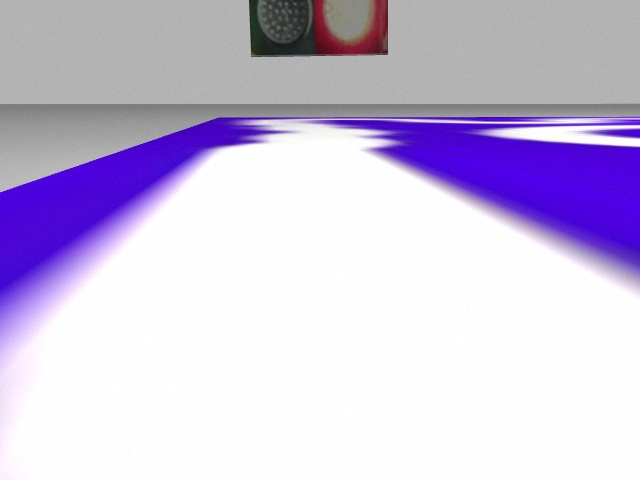red: (313, 2, 389, 57)
